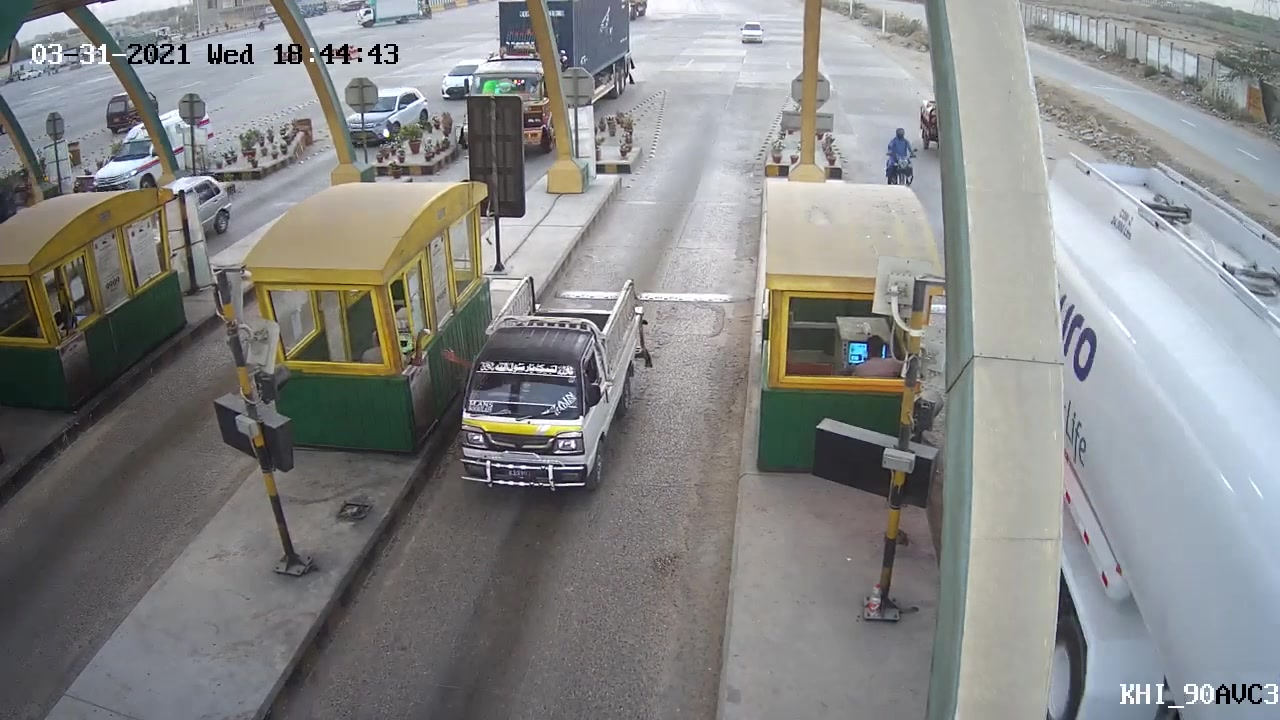F1: (452, 268, 669, 518)
